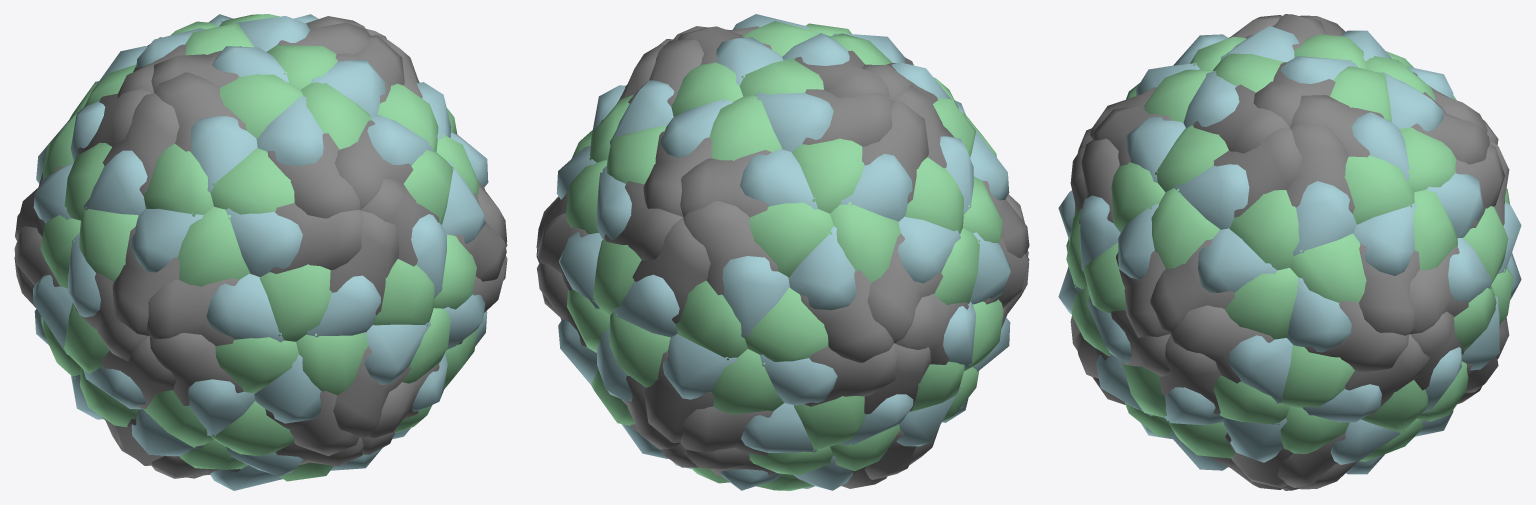
Rendered from poliovirus_50_cleaned_draco.glb.
The picture shows the model from 3 angles, left to right: view 1: azimuth 30°, elevation 25°; view 2: azimuth 150°, elevation 25°; view 3: azimuth 270°, elevation 25°; orthographic projection. The views are drawn at different scales.
Parts seen in each view (by area): view 1: poliovirus.cif assembly 1_4 Gaussian surface; view 2: poliovirus.cif assembly 1_4 Gaussian surface; view 3: poliovirus.cif assembly 1_4 Gaussian surface.
Boxes of the visible parts, x1,y1,x2,y2 form: poliovirus.cif assembly 1_4 Gaussian surface: (14,14,507,490); poliovirus.cif assembly 1_4 Gaussian surface: (536,14,1029,490); poliovirus.cif assembly 1_4 Gaussian surface: (1058,14,1521,490).
Bounding box in the file's own units: 345 × 345 × 345.
